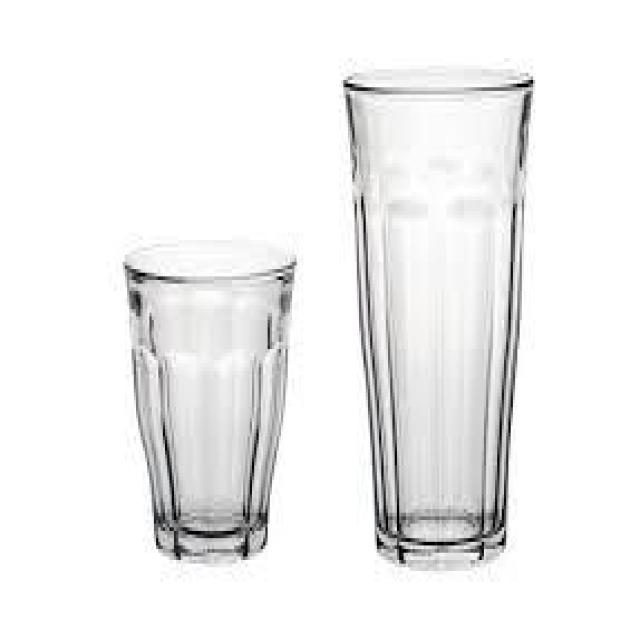Glass: (344, 66, 534, 575), (123, 233, 298, 564)
